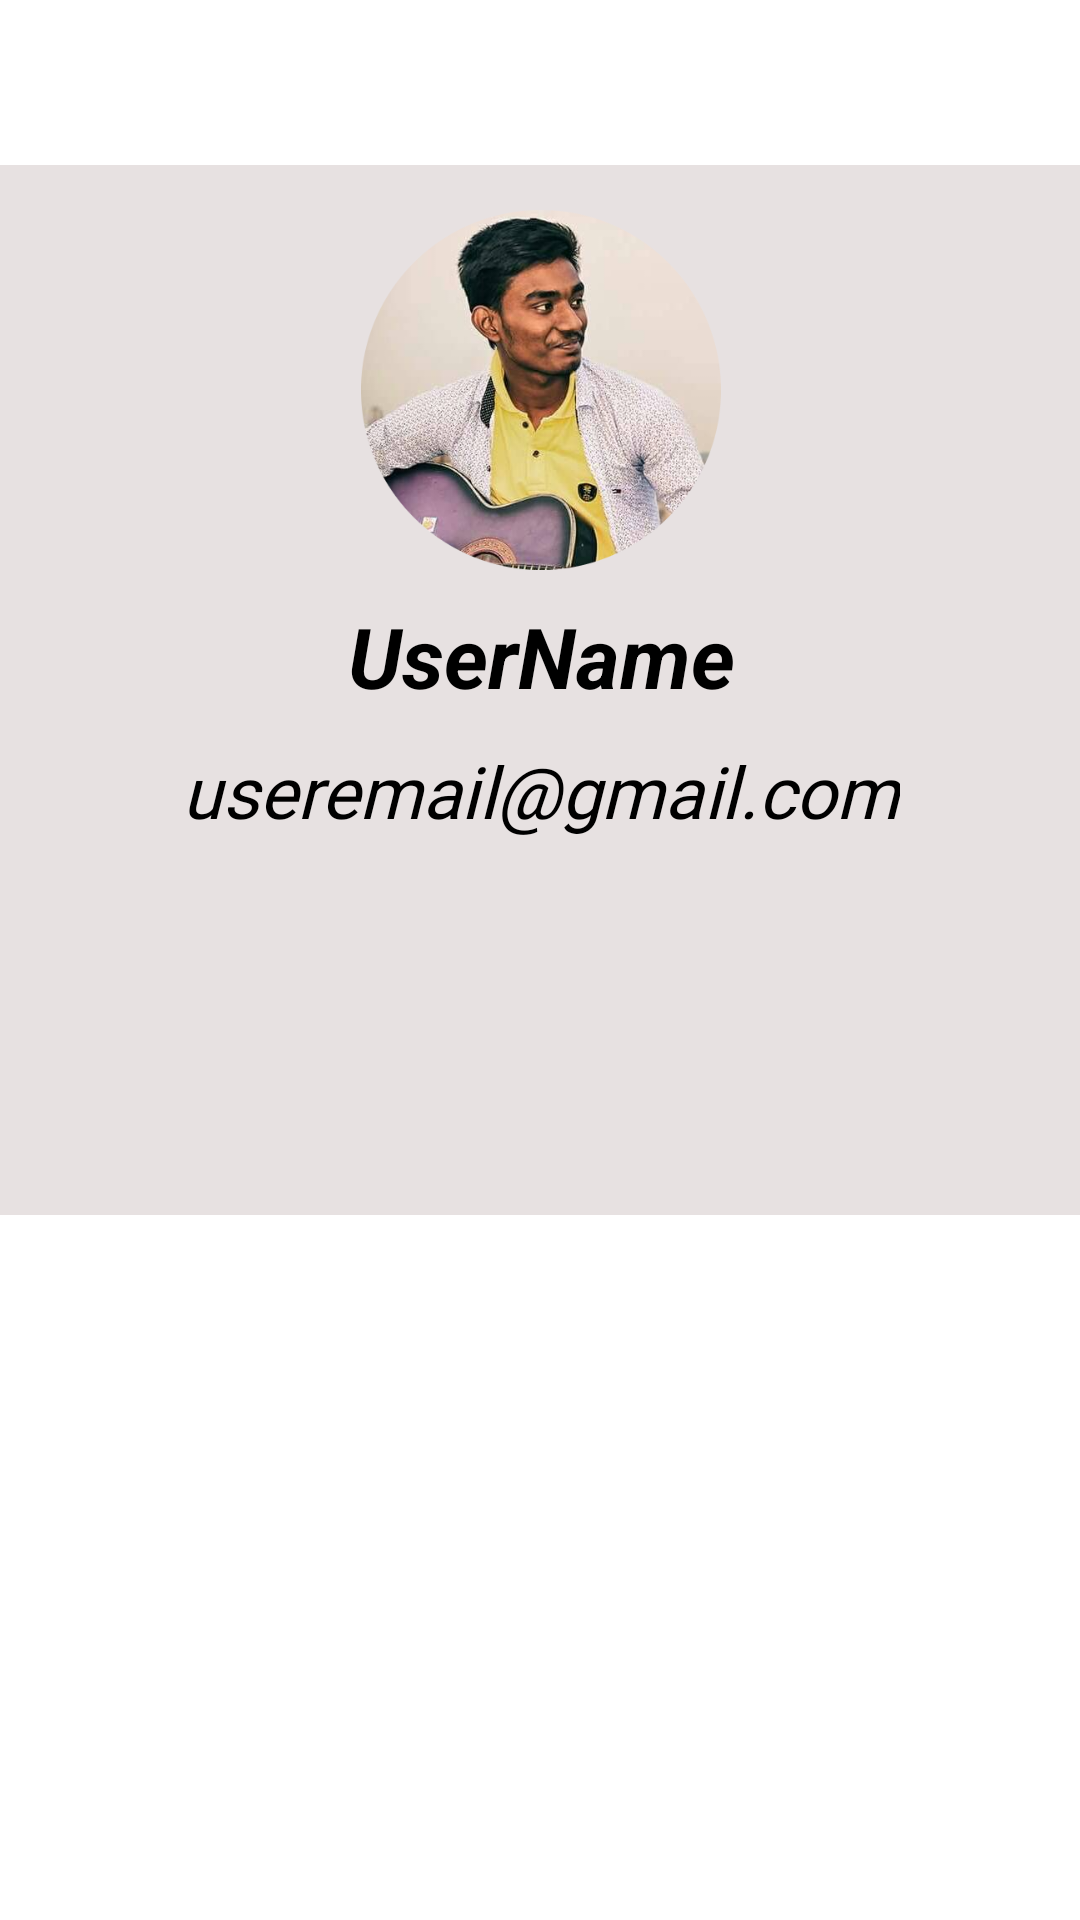

Where icons sit on this 1080px×1920px app screen, as bbox(x1, y1, x2, y2):
profile: bbox(361, 211, 721, 570)
